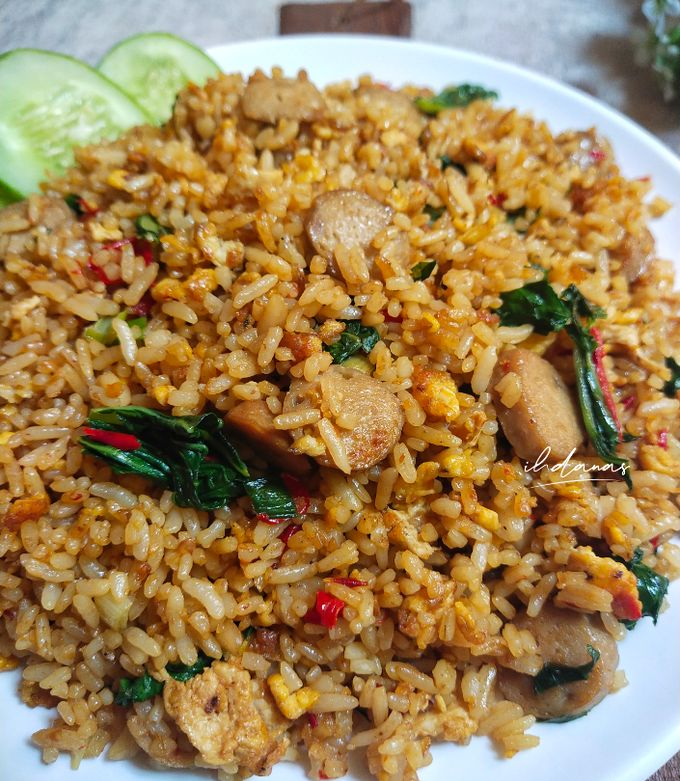Nasi goreng: (0, 77, 680, 767)
